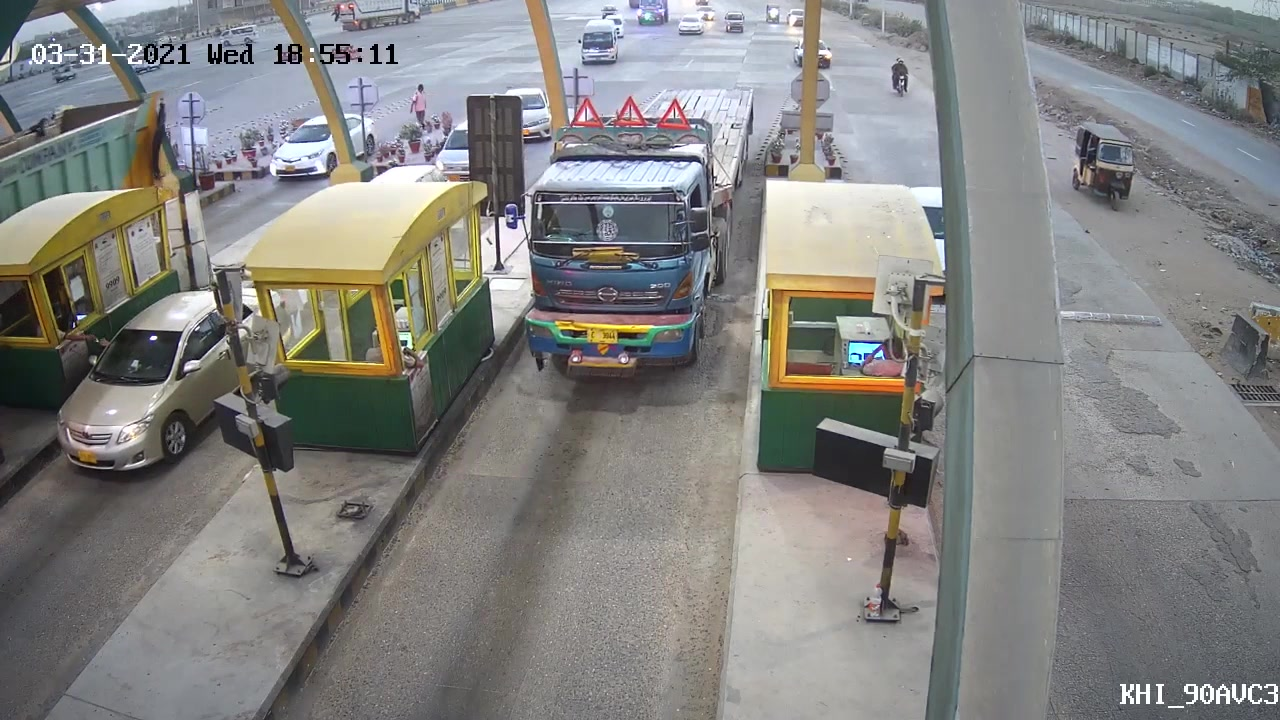F6: (519, 65, 762, 375)
